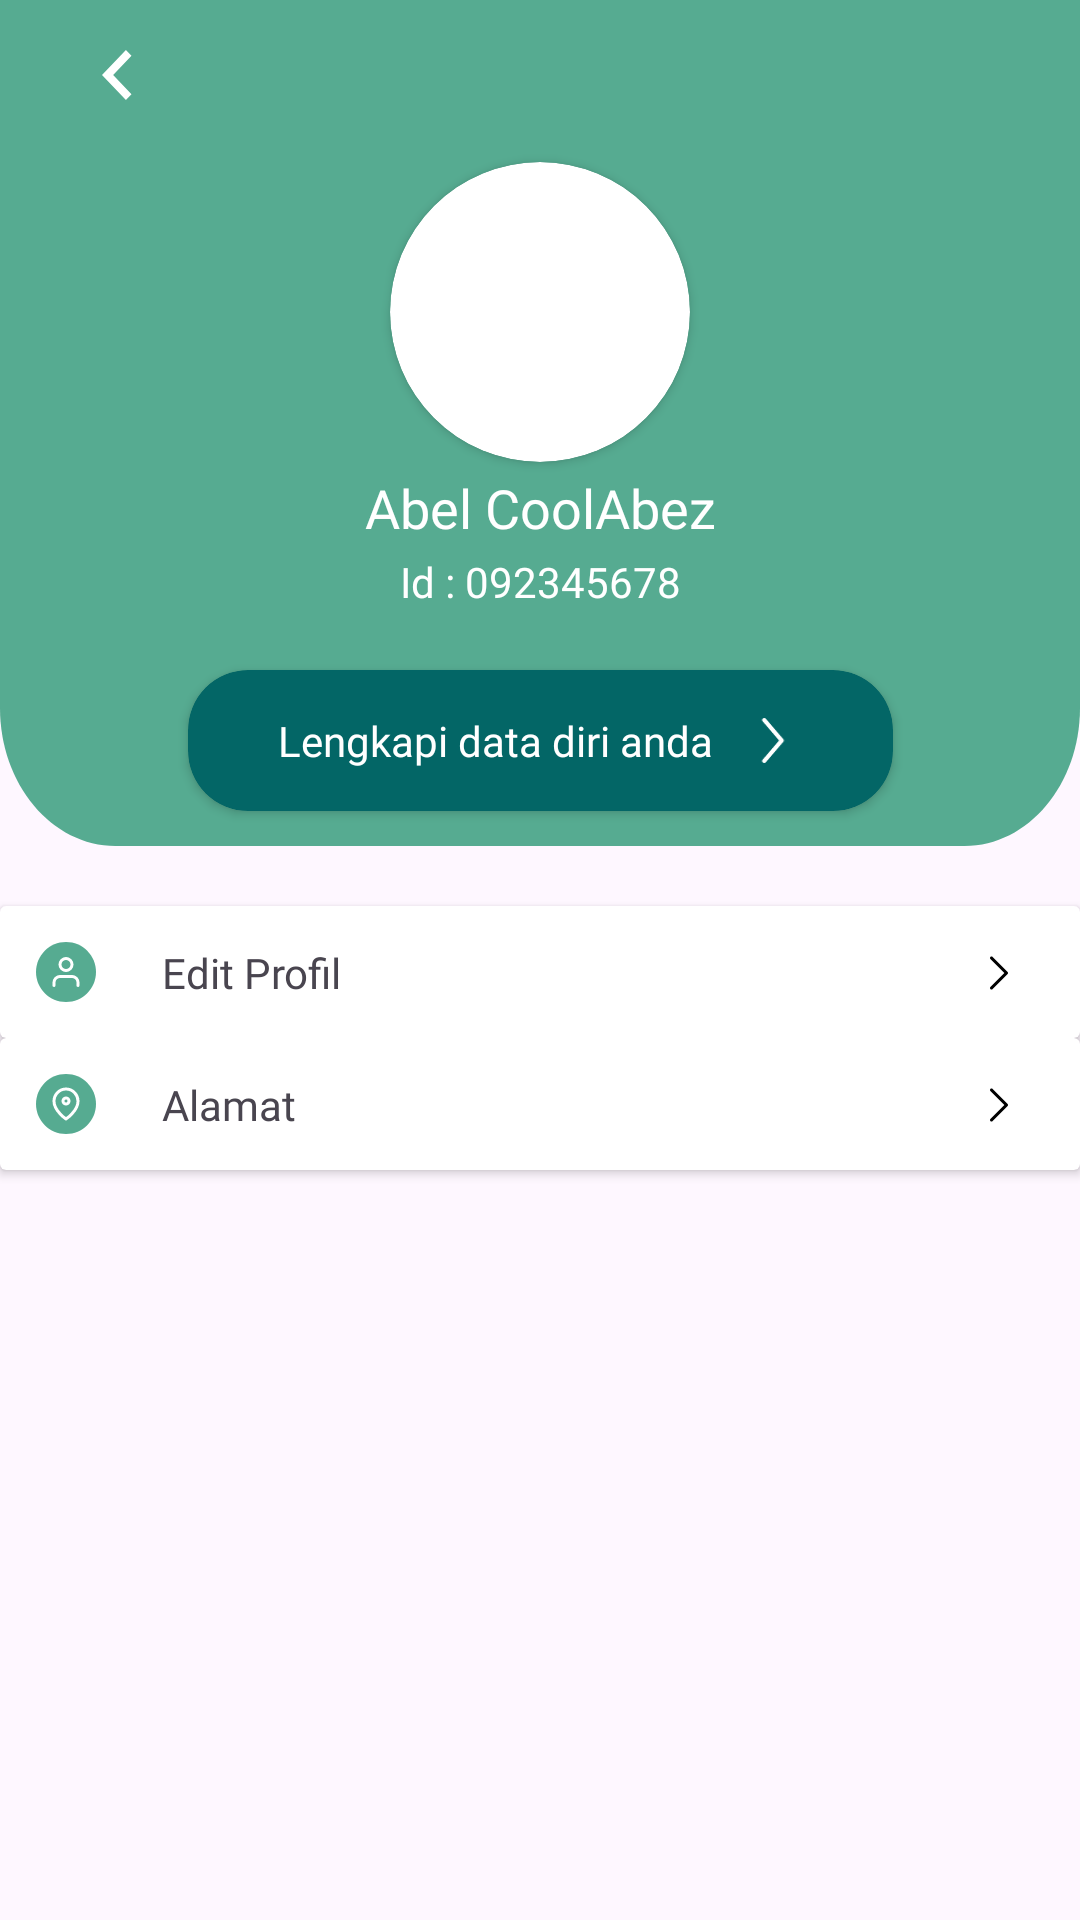

Where to tap for icons on this 1080x1920 app screen, as (x,y):
arrow next: (999,973), (999,1105)
back: (117,75)
next putih: (773,740)
